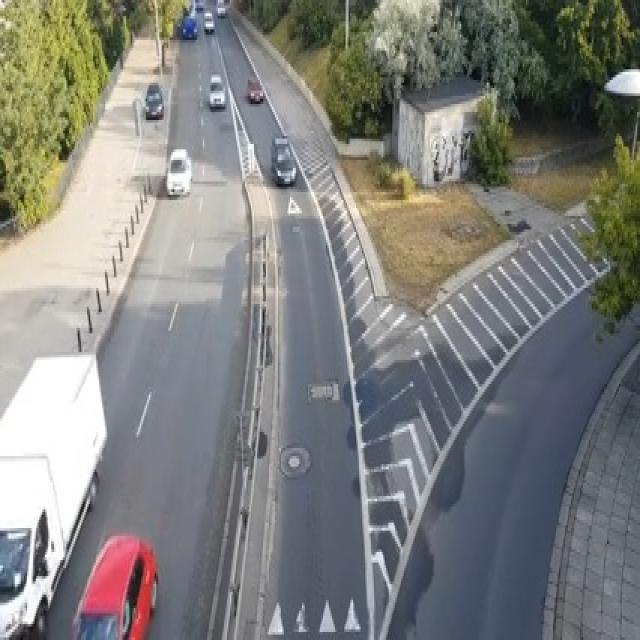bus: (0, 350, 107, 638)
car: (70, 534, 158, 638), (165, 147, 191, 197), (270, 136, 296, 184), (144, 83, 164, 117), (209, 72, 225, 109), (246, 77, 263, 101), (182, 13, 197, 38), (203, 11, 213, 32), (215, 0, 225, 16), (194, 0, 203, 11)
